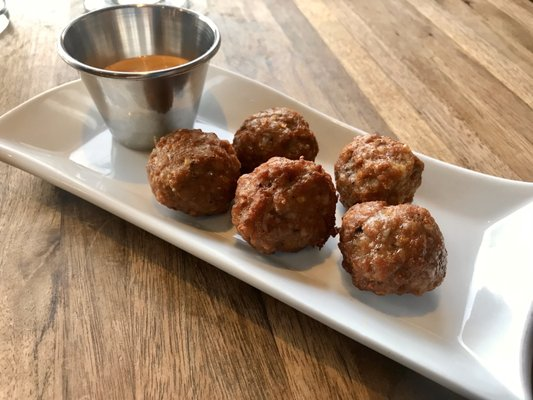pizza: (57, 2, 223, 153)
sushi: (58, 2, 222, 153)
